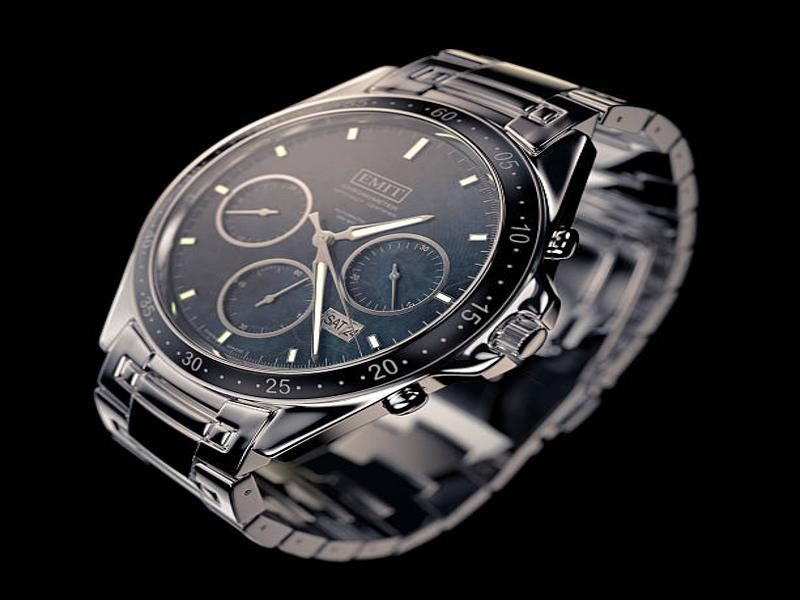watch: (93, 45, 720, 564)
